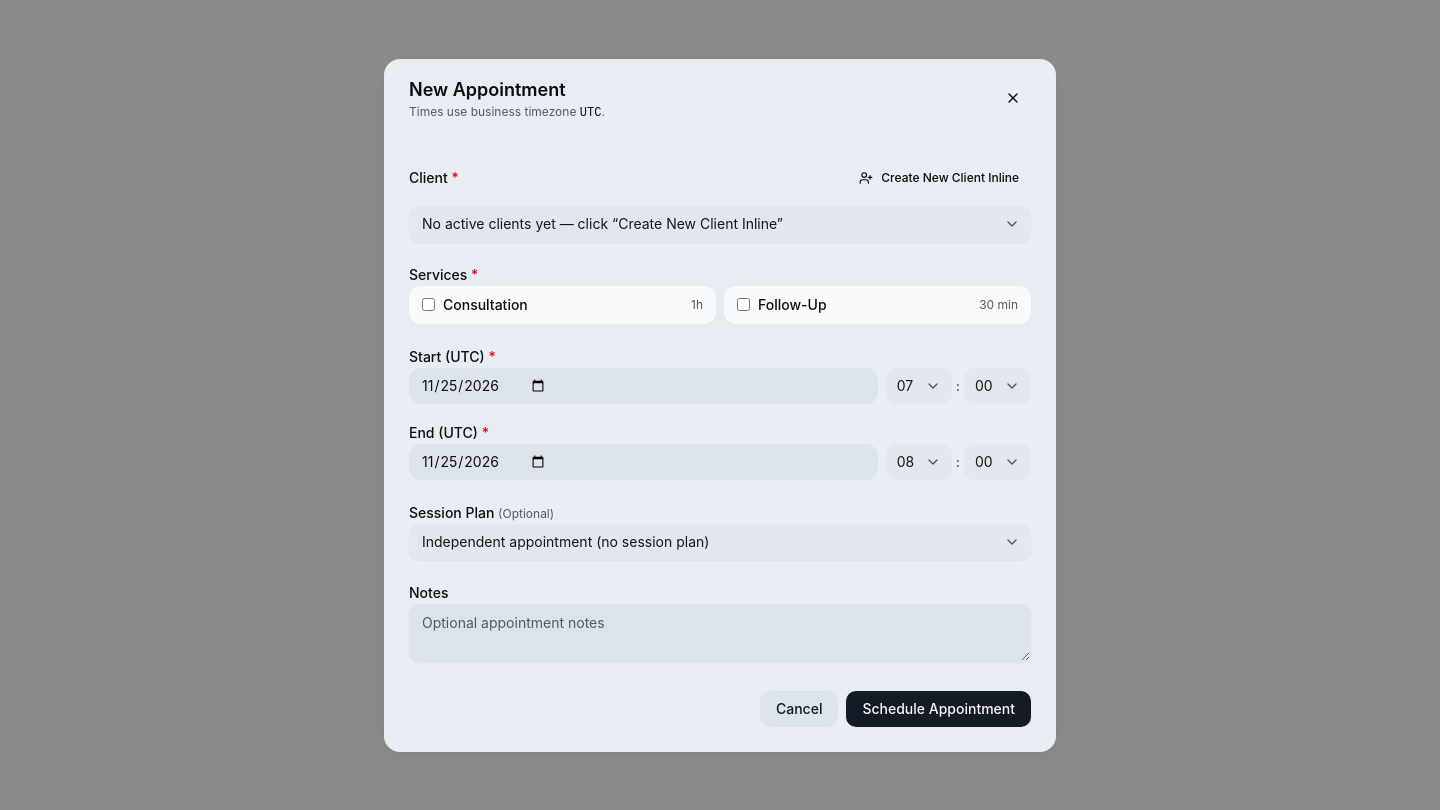
AppointmentFormDialog › requires at least one service to be selected
Step 1. Click the button "Schedule Appointment" → click(939, 708), box top-left (846, 690), bottom-right (1031, 726)
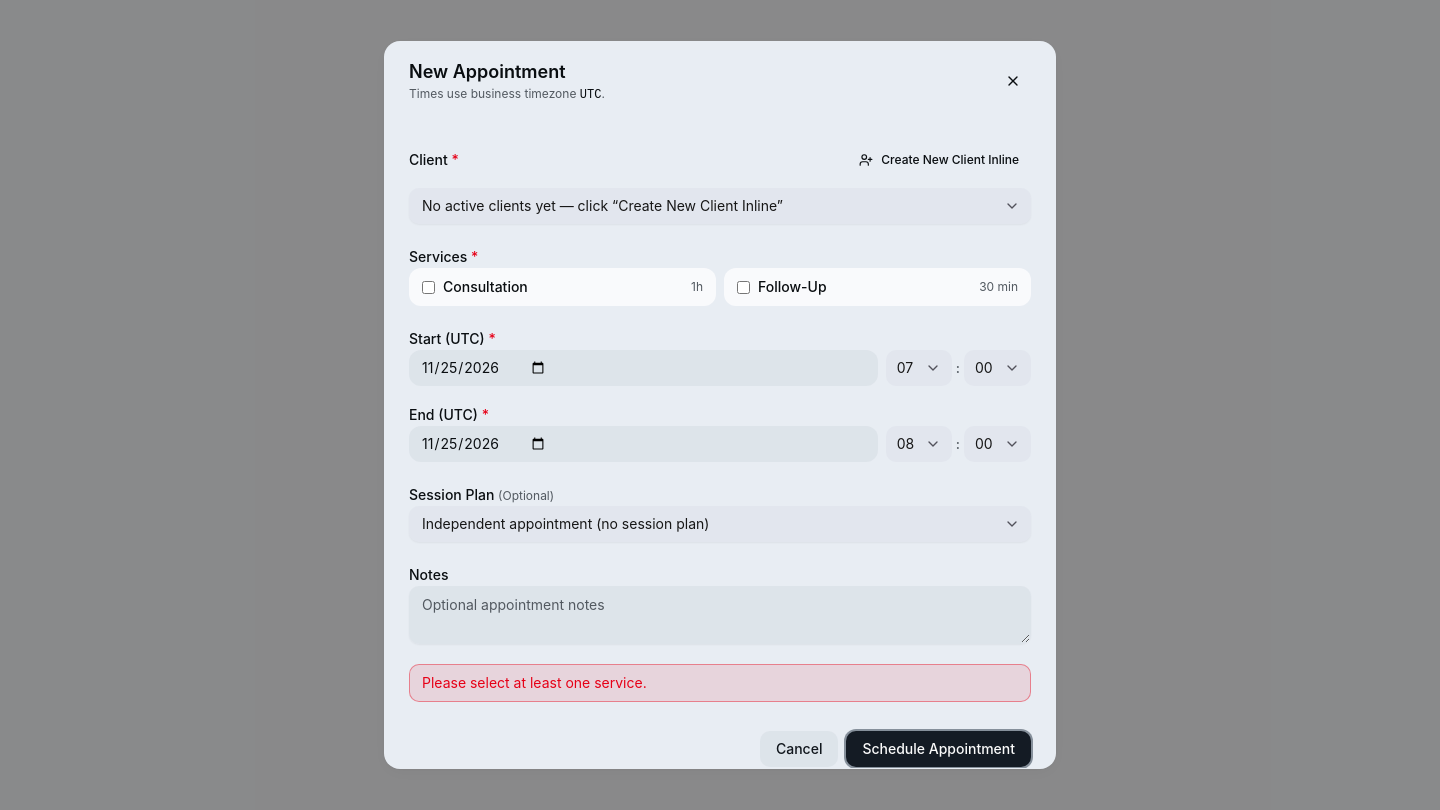
expect the text "Please select at least one service." is shown: met, box top-left (409, 664), bottom-right (1031, 702)
